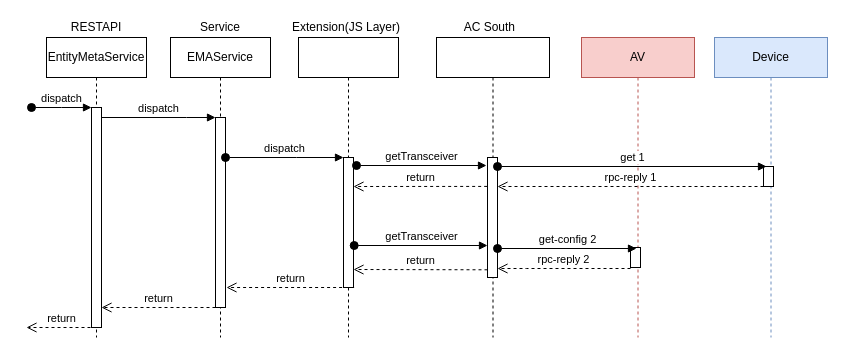
Some shapes in this 845 by 355 pixel diagram are drawn without their labels. The shapes that lost their labels are listed below. From the top down, each one's centre as x and y in pixels, then its label:
At [348,187]: "Entity".
At [493,187]: "NCRequestExecutor".
